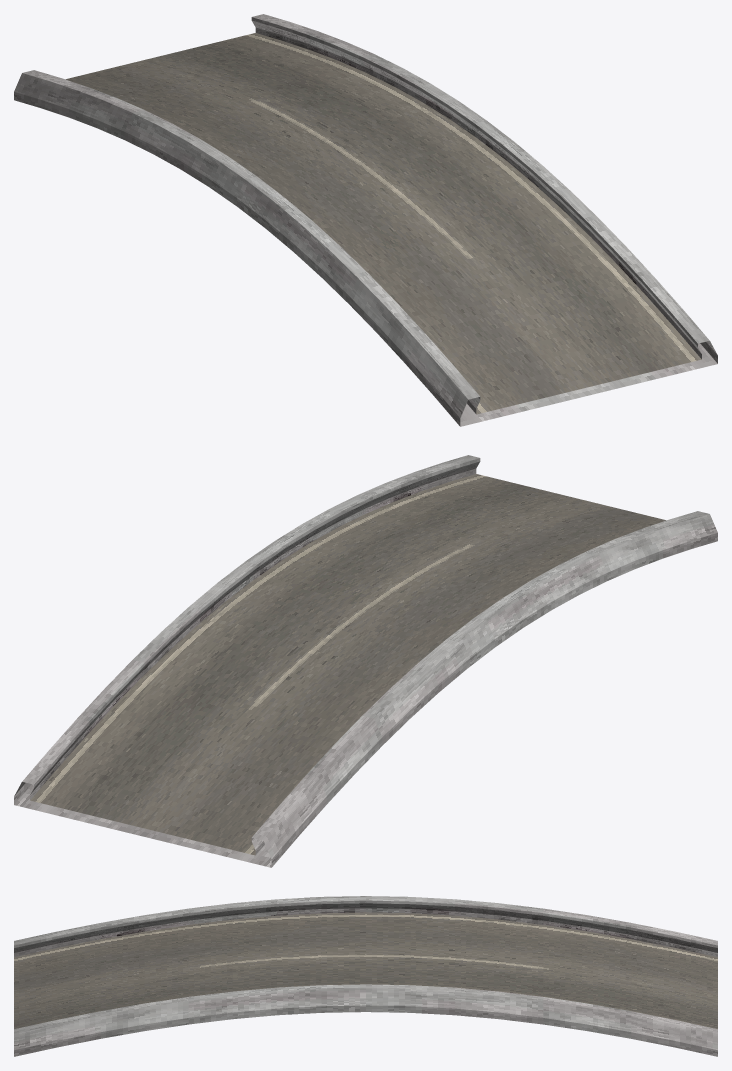
The model's file is road-Straight-BiSlopeUp-BiSlopeDown-Even-Center-Size3.glb.
The picture shows the model from 3 angles, top to bottom: view 1: azimuth 30°, elevation 25°; view 2: azimuth 150°, elevation 25°; view 3: azimuth 270°, elevation 25°; orthographic projection. The views are drawn at different scales.
Visible parts, largest first — view 1: road-Straight-BiSlopeUp-BiSlopeDown-Even-Center-Size3; view 2: road-Straight-BiSlopeUp-BiSlopeDown-Even-Center-Size3; view 3: road-Straight-BiSlopeUp-BiSlopeDown-Even-Center-Size3.
Boxes of the visible parts, x1,y1,x2,y2 form: road-Straight-BiSlopeUp-BiSlopeDown-Even-Center-Size3: (14,14,717,426); road-Straight-BiSlopeUp-BiSlopeDown-Even-Center-Size3: (14,455,717,867); road-Straight-BiSlopeUp-BiSlopeDown-Even-Center-Size3: (14,896,717,1056).
Bounding box in the file's own units: 1 × 0.3047 × 3.
Materials: 2 (2 with a texture image).
